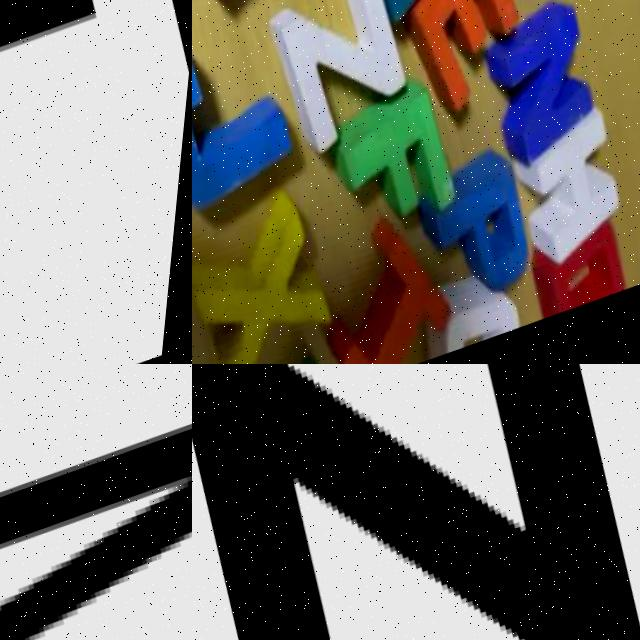E: (365, 0, 558, 132)
F: (325, 93, 480, 250)
H: (504, 113, 640, 267)
I: (313, 216, 480, 364)
J: (192, 25, 319, 221)
L: (0, 0, 189, 364)
M: (0, 388, 192, 640)
N: (469, 0, 624, 171)
O: (529, 227, 640, 326)
P: (420, 155, 555, 312)
X: (192, 204, 362, 364)
Z: (192, 364, 640, 640), (256, 0, 438, 172)
